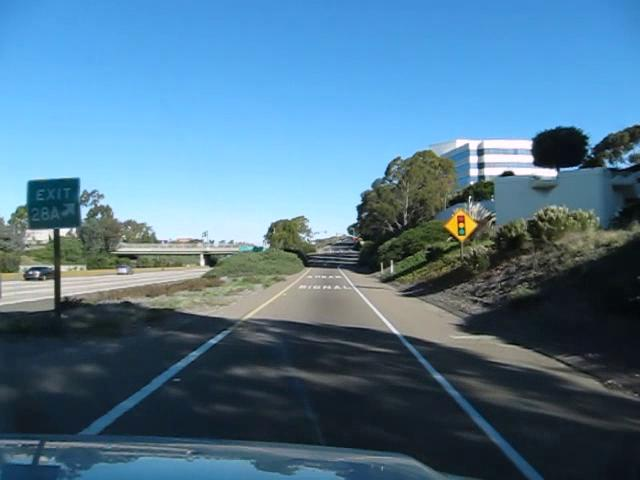signalAhead: (444, 207, 478, 242)
